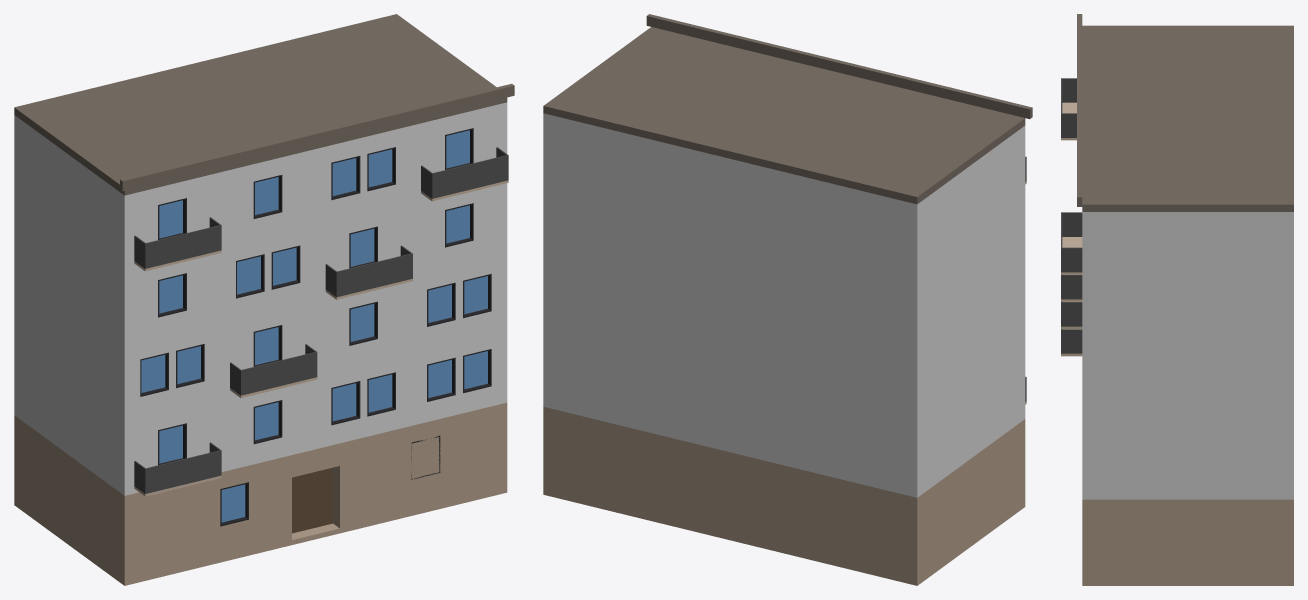
File: soviet_apartment_block.obj
3 views of the same model, side by side, from view 1: azimuth 30°, elevation 25°; view 2: azimuth 150°, elevation 25°; view 3: azimuth 270°, elevation 25° (orthographic). The views are drawn at different scales.
Visible parts, largest first — view 1: tmpqc2ad6_a.stl, geometry_246, tmprcf1fkdy.stl, tmp9x2y54a8.stl, tmpnnp8m4x2.stl, tmpo8h7yk_l.stl, tmp_vu5l8xv.stl, tmp8l2fj1ga.stl, tmp56htd367.stl, tmppso7ae67.stl, tmp3t3y_roe.stl, geometry_247 (+36 smaller); view 2: geometry_246, tmpqc2ad6_a.stl, tmp9x2y54a8.stl, tmpnnp8m4x2.stl, tmprcf1fkdy.stl, tmpo8h7yk_l.stl, tmpxl_bqh6i.stl, tmp3t3y_roe.stl, tmp_vu5l8xv.stl, tmpggd9421d.stl, tmppso7ae67.stl, tmpl1v8psk8.stl (+7 smaller); view 3: geometry_246, tmpqc2ad6_a.stl, tmp3t3y_roe.stl, tmpl1v8psk8.stl, tmp8l2fj1ga.stl, tmphr29fq_d.stl, geometry_247, geometry_245, geometry_178, geometry_106, geometry_25, geometry_244 (+2 smaller).
Part boxes in pixels (x1=…): tmpqc2ad6_a.stl: x1=14, y1=402, x2=507, y2=585; geometry_246: x1=14, y1=14, x2=507, y2=195; tmprcf1fkdy.stl: x1=14, y1=190, x2=220, y2=345; tmp9x2y54a8.stl: x1=14, y1=265, x2=220, y2=420; tmpnnp8m4x2.stl: x1=14, y1=340, x2=220, y2=495; tmpo8h7yk_l.stl: x1=14, y1=115, x2=220, y2=270; tmp_vu5l8xv.stl: x1=220, y1=149, x2=315, y2=246; tmp8l2fj1ga.stl: x1=411, y1=183, x2=507, y2=275; tmp56htd367.stl: x1=220, y1=380, x2=315, y2=471; tmppso7ae67.stl: x1=316, y1=281, x2=411, y2=373; tmp3t3y_roe.stl: x1=411, y1=327, x2=507, y2=425; geometry_247: x1=120, y1=83, x2=514, y2=191; geometry_246: x1=543, y1=27, x2=1025, y2=204; tmpqc2ad6_a.stl: x1=543, y1=406, x2=1025, y2=585; tmp9x2y54a8.stl: x1=823, y1=272, x2=1025, y2=424; tmpnnp8m4x2.stl: x1=823, y1=346, x2=1025, y2=497; tmprcf1fkdy.stl: x1=823, y1=199, x2=1025, y2=350; tmpo8h7yk_l.stl: x1=823, y1=126, x2=1025, y2=277; tmpxl_bqh6i.stl: x1=637, y1=209, x2=730, y2=305; tmp3t3y_roe.stl: x1=543, y1=333, x2=636, y2=429; tmp_vu5l8xv.stl: x1=730, y1=159, x2=823, y2=254; tmpggd9421d.stl: x1=637, y1=356, x2=730, y2=451; tmppso7ae67.stl: x1=637, y1=283, x2=730, y2=378; tmpl1v8psk8.stl: x1=543, y1=260, x2=636, y2=355; geometry_246: x1=1082, y1=25, x2=1293, y2=211; tmpqc2ad6_a.stl: x1=1082, y1=499, x2=1293, y2=585; tmp3t3y_roe.stl: x1=1082, y1=427, x2=1293, y2=499; tmpl1v8psk8.stl: x1=1082, y1=355, x2=1293, y2=427; tmp8l2fj1ga.stl: x1=1082, y1=284, x2=1293, y2=355; tmphr29fq_d.stl: x1=1082, y1=212, x2=1293, y2=283; geometry_247: x1=1077, y1=14, x2=1082, y2=206; geometry_245: x1=1061, y1=247, x2=1082, y2=272; geometry_178: x1=1061, y1=275, x2=1082, y2=299; geometry_106: x1=1061, y1=302, x2=1082, y2=326; geometry_25: x1=1061, y1=329, x2=1082, y2=353; geometry_244: x1=1061, y1=212, x2=1082, y2=236.
Bounding box in the file's own units: 16.4 × 16.3 × 8.8.
